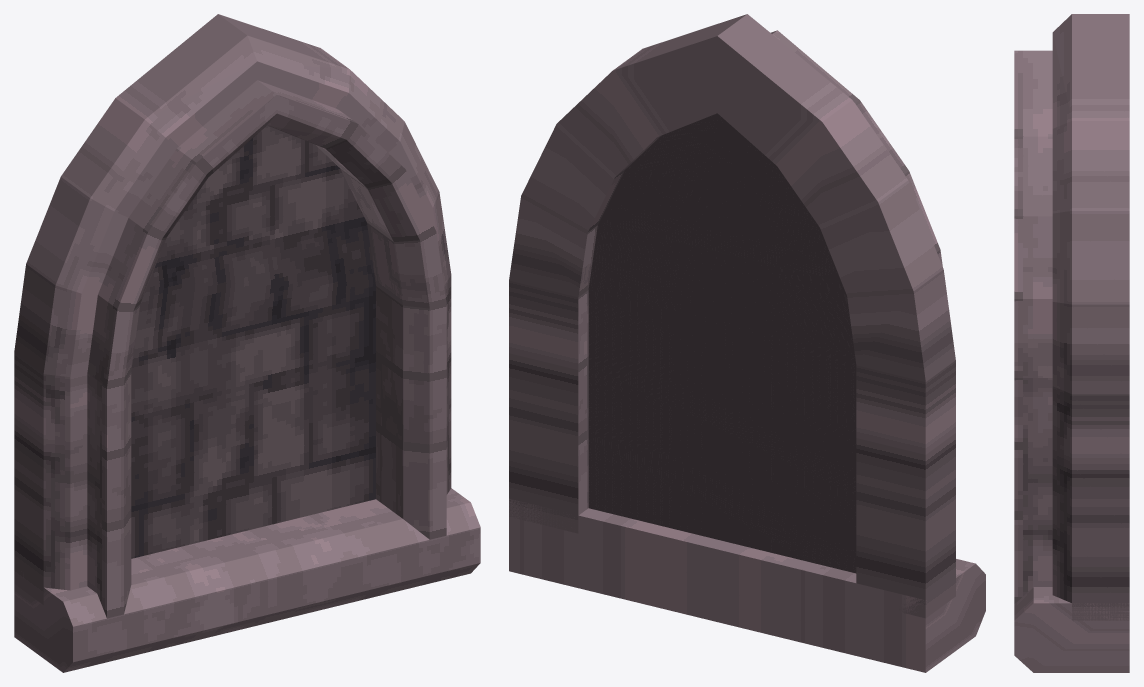
Rendered from wandnische_spitz_raum_a.glb.
3 views of the same model, side by side, from view 1: azimuth 30°, elevation 25°; view 2: azimuth 150°, elevation 25°; view 3: azimuth 270°, elevation 25° (orthographic). The views are drawn at different scales.
Visible parts, largest first — view 1: gewaende, platte, sohlbank; view 2: gewaende, platte, sohlbank; view 3: gewaende, sohlbank.
Part boxes in pixels (x1=…): gewaende: x1=14, y1=14, x2=451, y2=618; platte: x1=131, y1=125, x2=375, y2=558; sohlbank: x1=14, y1=488, x2=480, y2=672; gewaende: x1=509, y1=14, x2=955, y2=618; platte: x1=588, y1=113, x2=856, y2=573; sohlbank: x1=509, y1=498, x2=985, y2=672; gewaende: x1=1014, y1=14, x2=1129, y2=620; sohlbank: x1=1014, y1=587, x2=1129, y2=672.
Bounding box in the file's own units: 1.5 × 2.02 × 0.375.
1 material, 1 textured.
